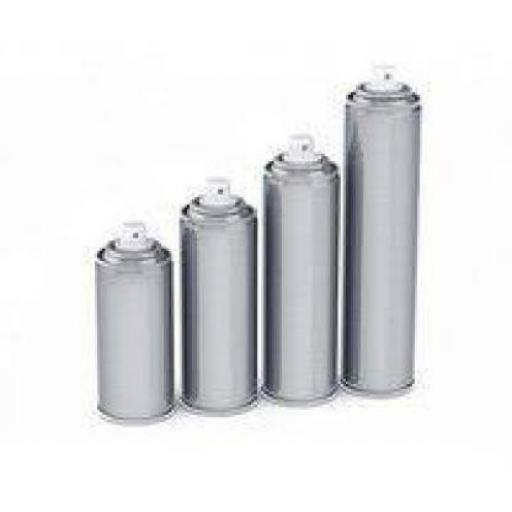metal: (344, 66, 412, 392), (258, 133, 338, 402), (174, 173, 256, 410), (92, 222, 171, 420)
